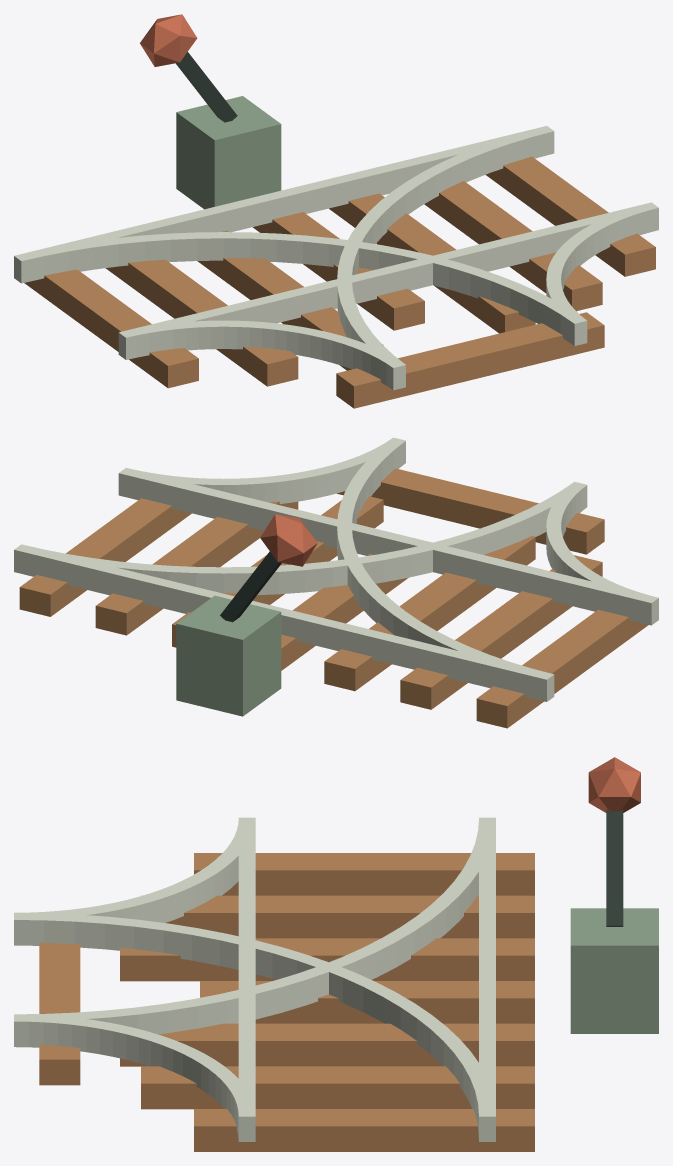
File: rail-t_down.glb
The picture shows the model from 3 angles, top to bottom: view 1: azimuth 30°, elevation 25°; view 2: azimuth 150°, elevation 25°; view 3: azimuth 270°, elevation 25°; orthographic projection. The views are drawn at different scales.
Parts seen in each view (by area): view 1: Connected steel rails, Mesh_rail-t_down_wood, Switch housing, Lever knob, Lever; view 2: Connected steel rails, Mesh_rail-t_down_wood, Switch housing, Lever knob, Lever; view 3: Mesh_rail-t_down_wood, Connected steel rails, Switch housing, Lever knob, Lever.
Boxes of the visible parts, bbox=[...] form: Connected steel rails: bbox=[14, 126, 658, 390]; Mesh_rail-t_down_wood: bbox=[24, 156, 655, 408]; Switch housing: bbox=[176, 96, 281, 209]; Lever knob: bbox=[140, 14, 197, 66]; Lever: bbox=[176, 52, 237, 122]; Connected steel rails: bbox=[14, 437, 658, 701]; Mesh_rail-t_down_wood: bbox=[19, 468, 648, 728]; Switch housing: bbox=[176, 595, 281, 716]; Lever knob: bbox=[260, 514, 317, 566]; Lever: bbox=[220, 551, 281, 622]; Mesh_rail-t_down_wood: bbox=[39, 853, 534, 1151]; Connected steel rails: bbox=[14, 817, 495, 1141]; Switch housing: bbox=[570, 908, 658, 1033]; Lever knob: bbox=[588, 757, 640, 812]; Lever: bbox=[606, 809, 623, 926].
Bounding box in the file's own units: 1 × 0.344 × 0.9125.
